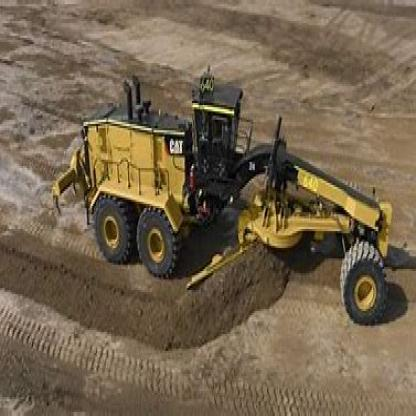bull_dozer/loader/grader: (48, 76, 406, 324)
